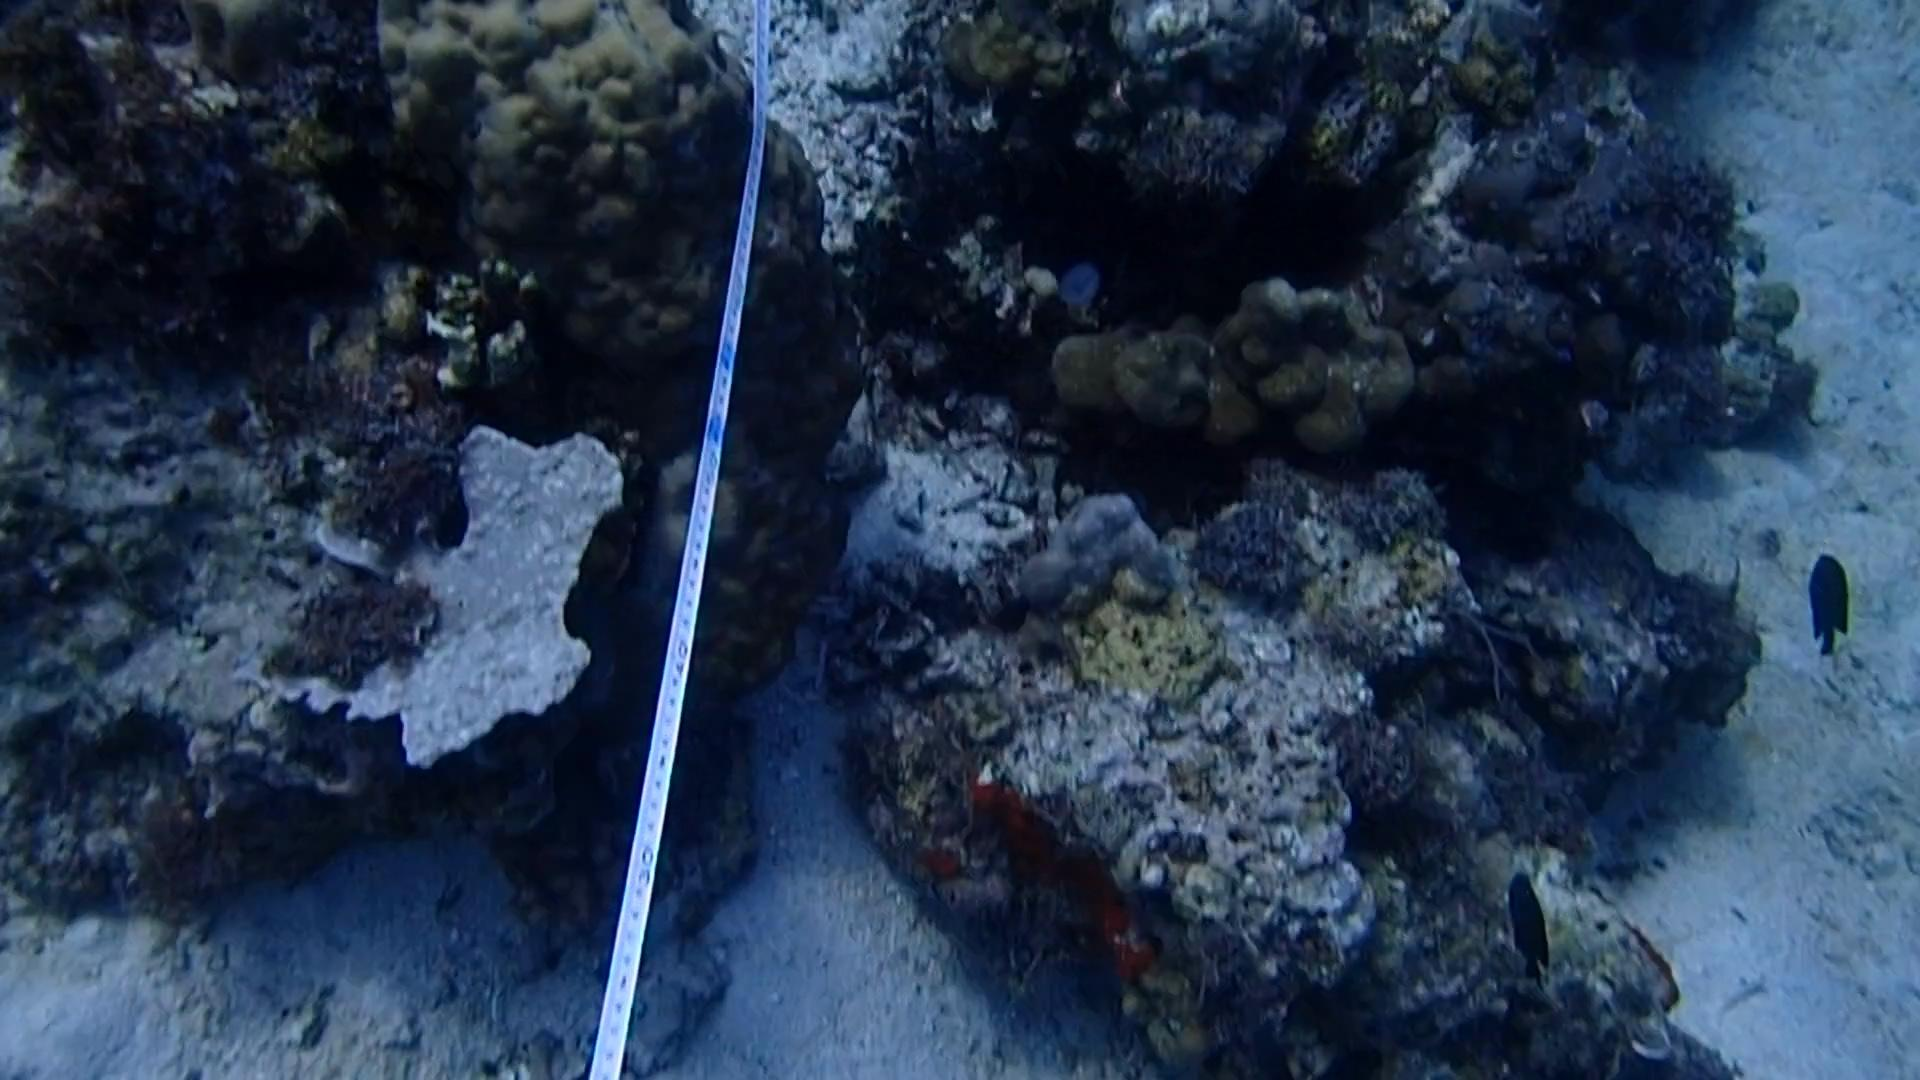Dark Fish: (1793, 537, 1862, 676), (1493, 862, 1567, 989)
